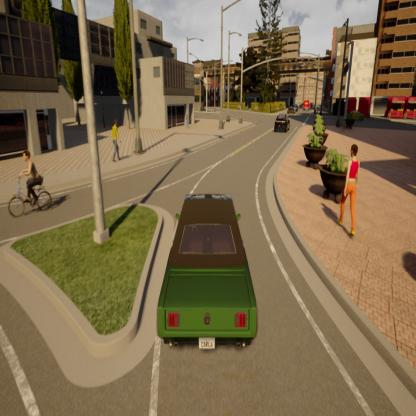Cars: (143, 160, 266, 376), (270, 112, 295, 139), (286, 93, 300, 118), (303, 91, 313, 119)
Pedestrian: (339, 128, 362, 245), (106, 109, 126, 166)
